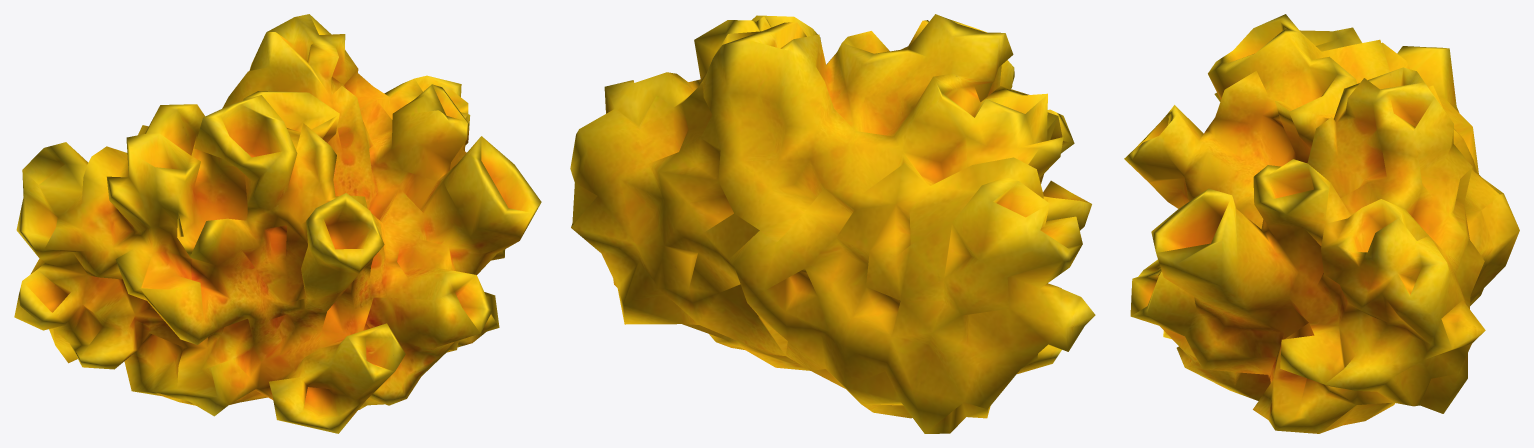
Rendered from Sponge.obj.
The picture shows the model from 3 angles, left to right: view 1: azimuth 30°, elevation 25°; view 2: azimuth 150°, elevation 25°; view 3: azimuth 270°, elevation 25°; orthographic projection. The views are drawn at different scales.
Bounding box in the file's own units: 1 × 0.7046 × 0.7392.
Materials: 1 (1 with a texture image).
